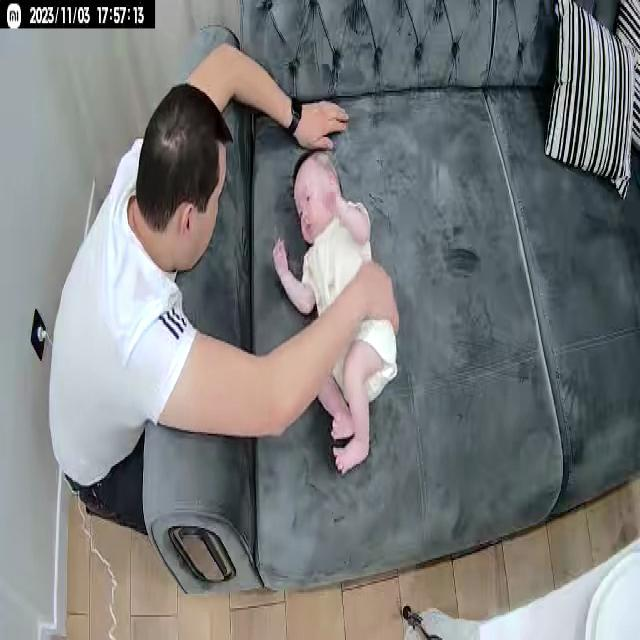baby: (267, 150, 398, 474)
